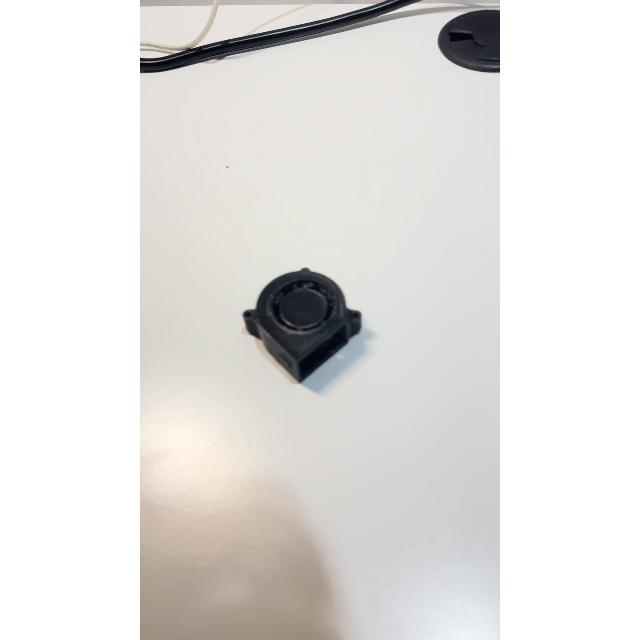Pieza3: (235, 254, 373, 394)
